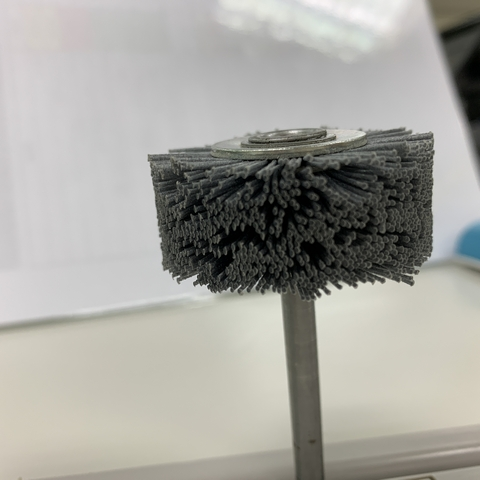Wheel Brush: (152, 114, 440, 480), (177, 126, 433, 413)
